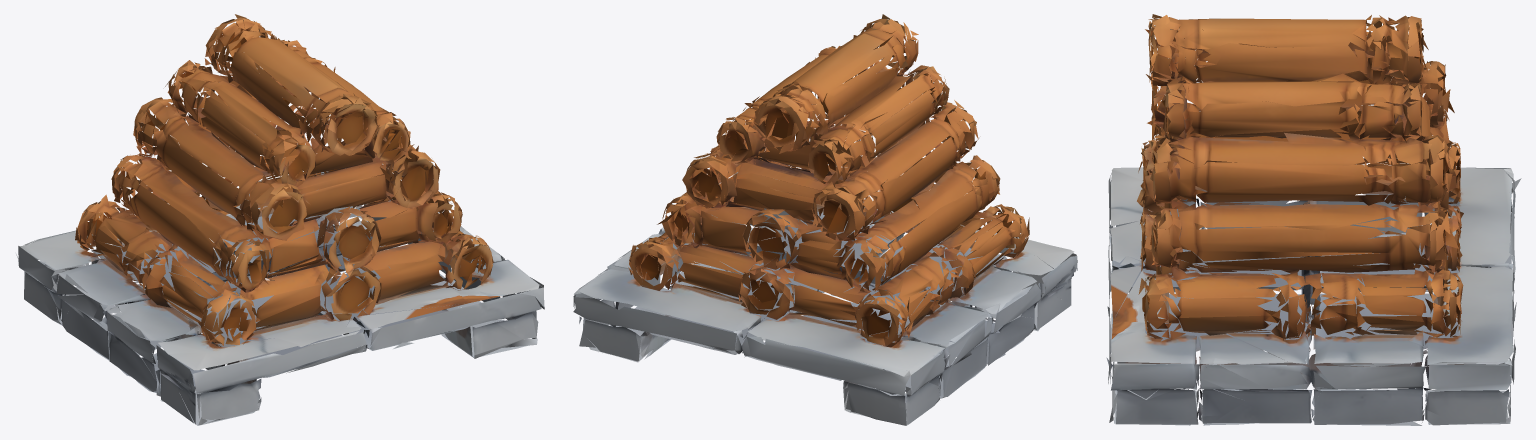
File: Forge_IngotStack.glb
The picture shows the model from 3 angles, left to right: view 1: azimuth 30°, elevation 25°; view 2: azimuth 150°, elevation 25°; view 3: azimuth 270°, elevation 25°; orthographic projection. The views are drawn at different scales.
Visible parts, largest first — view 1: Forge_IngotStack; view 2: Forge_IngotStack; view 3: Forge_IngotStack.
Part boxes in pixels (x1,y1,x2,y2): Forge_IngotStack: (16, 14, 544, 425); Forge_IngotStack: (573, 14, 1077, 425); Forge_IngotStack: (1106, 14, 1521, 425).
Bounding box in the file's own units: 1.38 × 1.04 × 1.21.
Materials: 1 (1 with a texture image).
